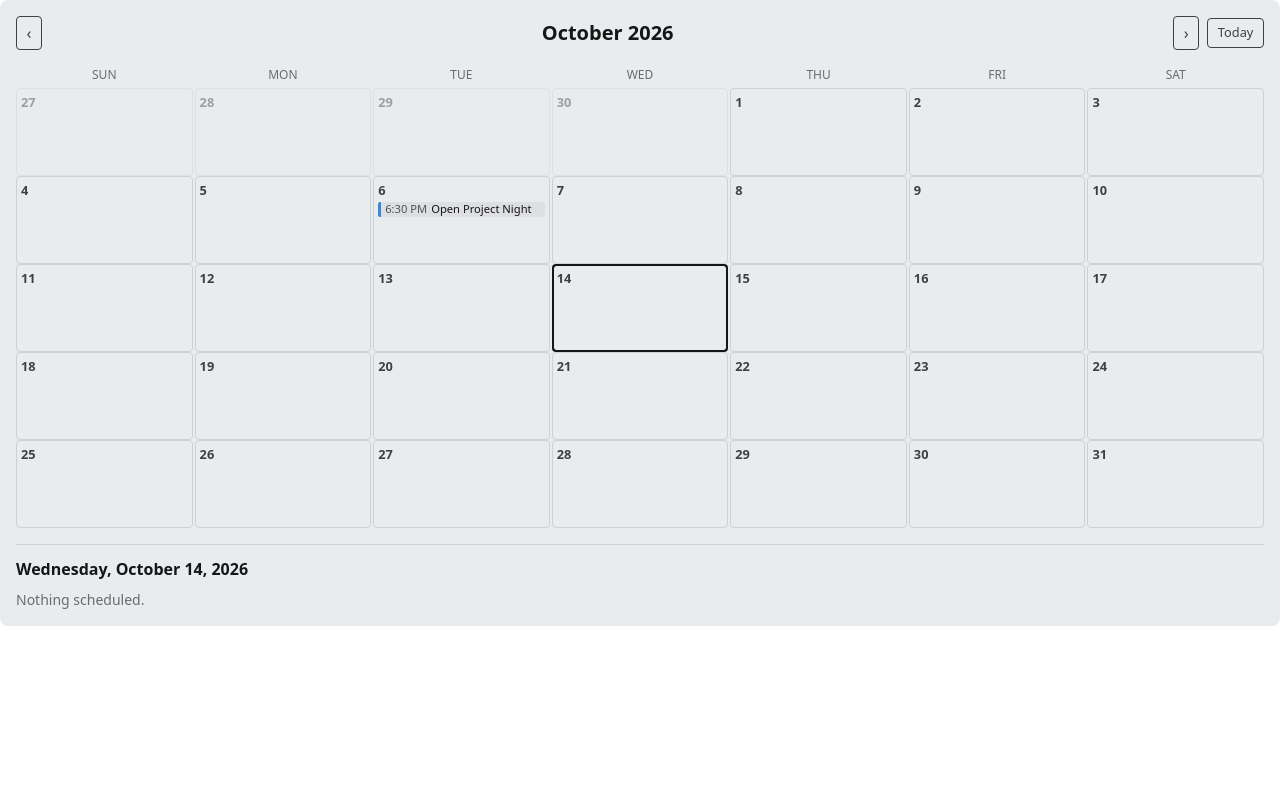
Scenario: failure › drops the previous month’s events rather than showing them on this one
Check: the button "6 6:30 PM Open Project Night" is shown, box [373,176,550,264]
Click the button named "Next month".
click(1186, 33)  # box [1173,16,1199,50]
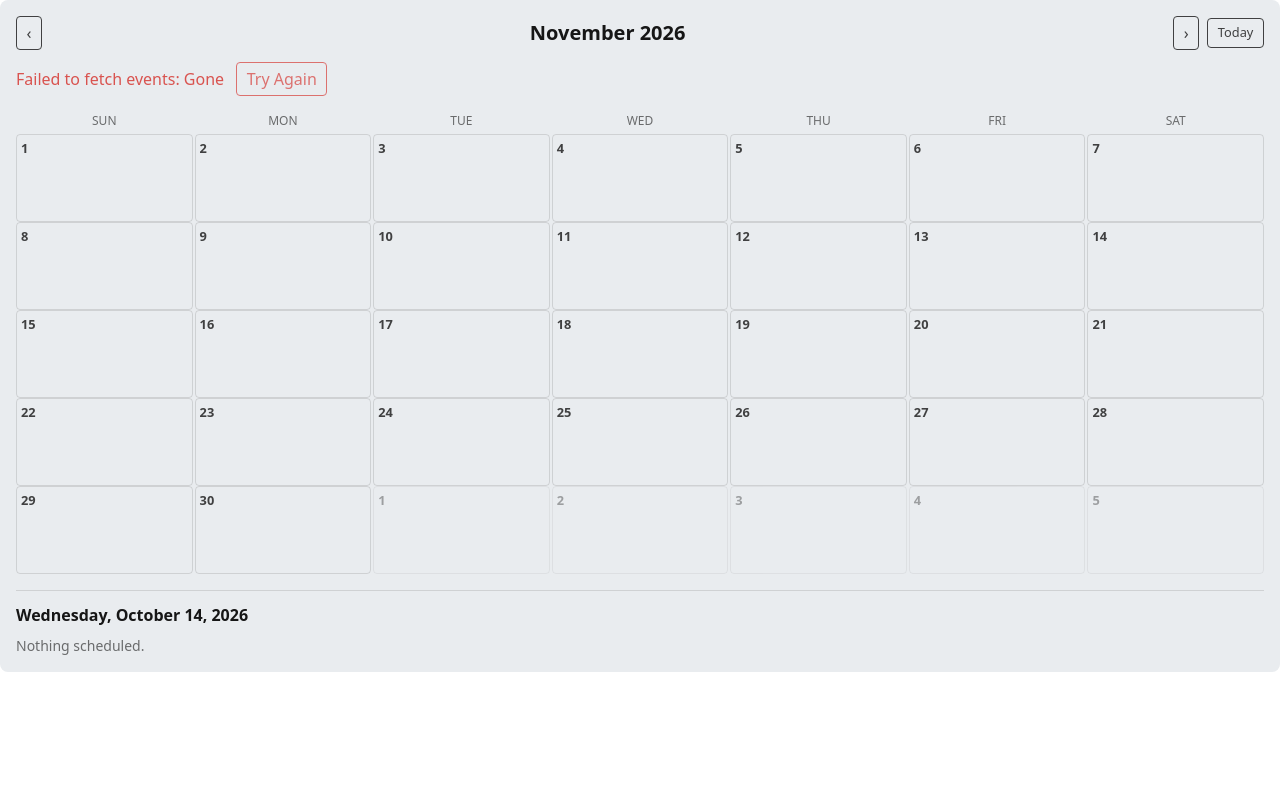
Check: the text "Open Project Night" is gone
